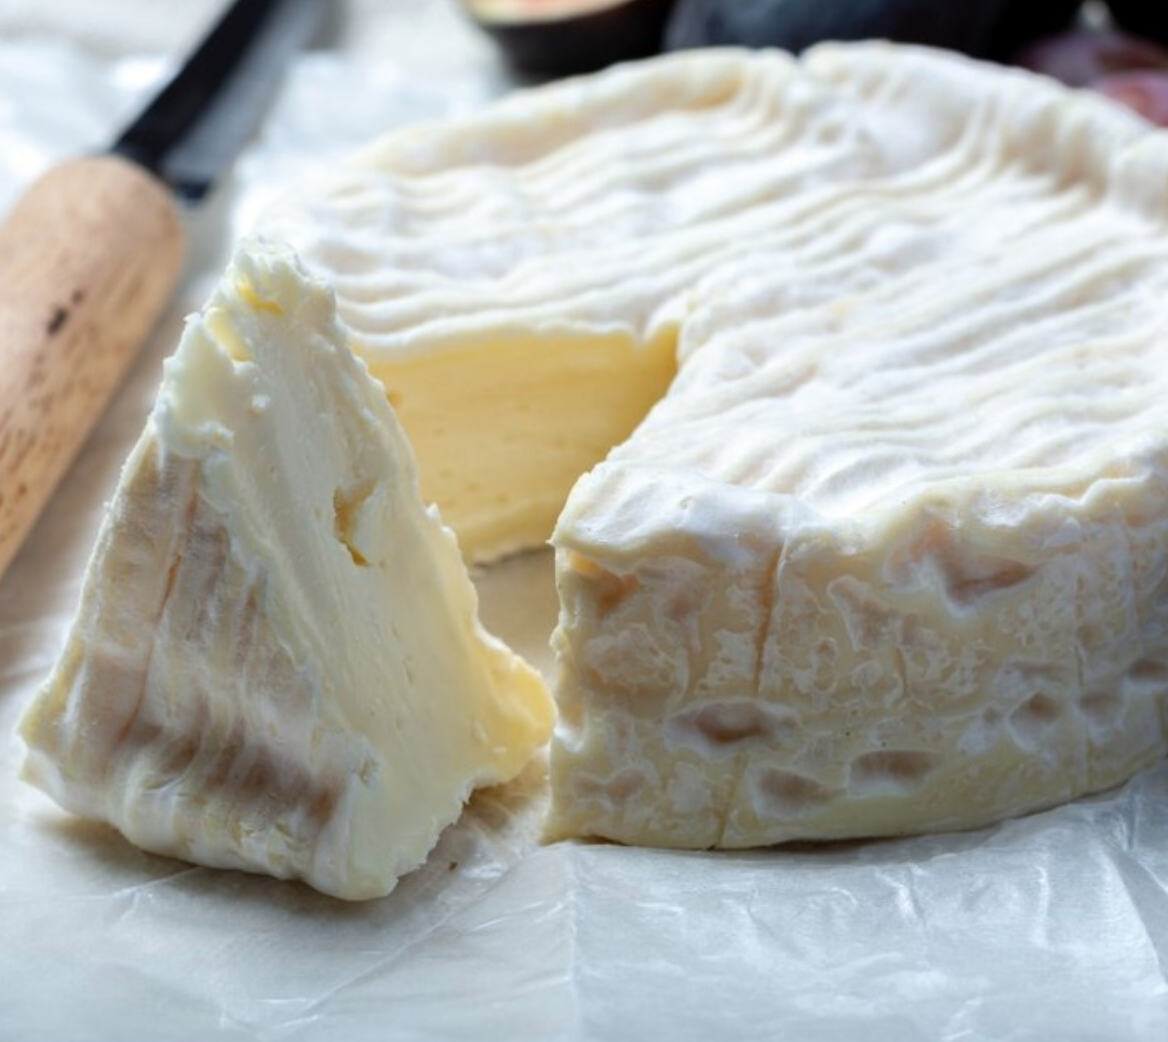camembert: (227, 38, 1168, 857), (14, 234, 557, 904)
